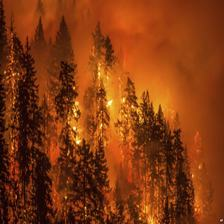fire: (54, 53, 170, 157)
